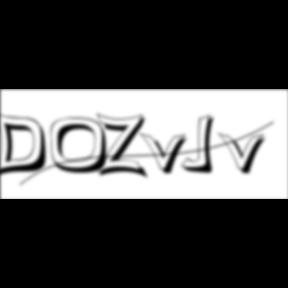D: (0, 110, 54, 180)
J: (181, 114, 220, 176)
O: (50, 117, 115, 176)
Z: (97, 112, 152, 181)
v: (140, 131, 194, 177), (218, 131, 272, 177)
